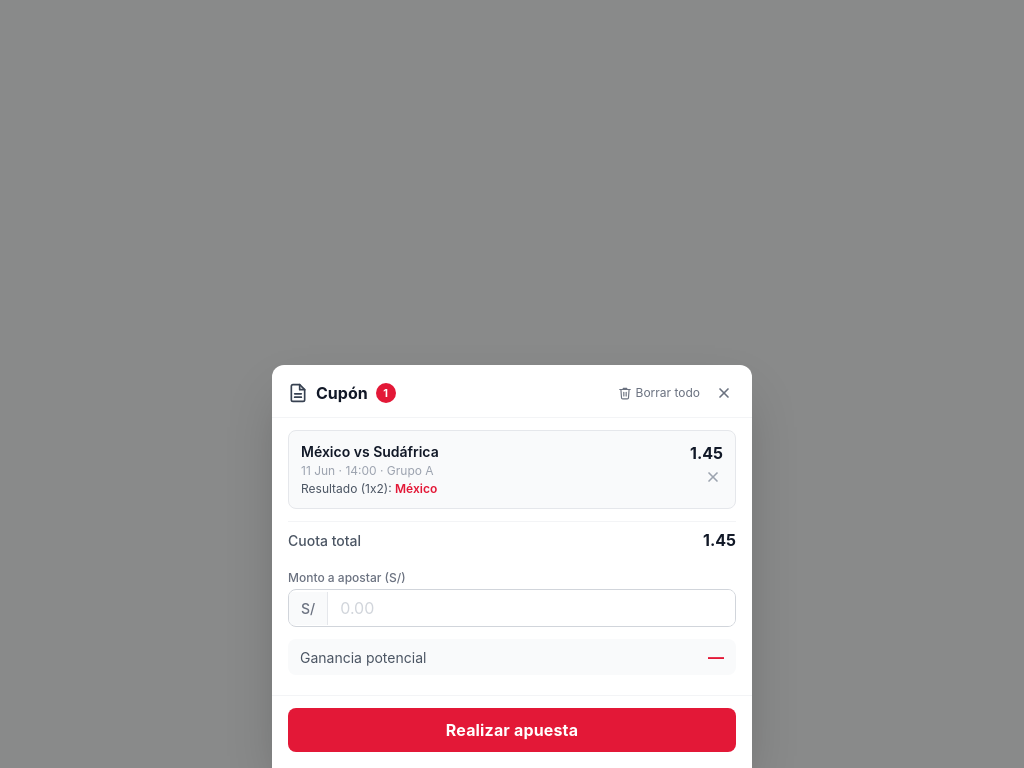
Test: BettingSlip — flujo de apuesta › muestra el mensaje de éxito al realizar la apuesta
Click the button "Realizar apuesta": (512, 730) [288,708,736,752]
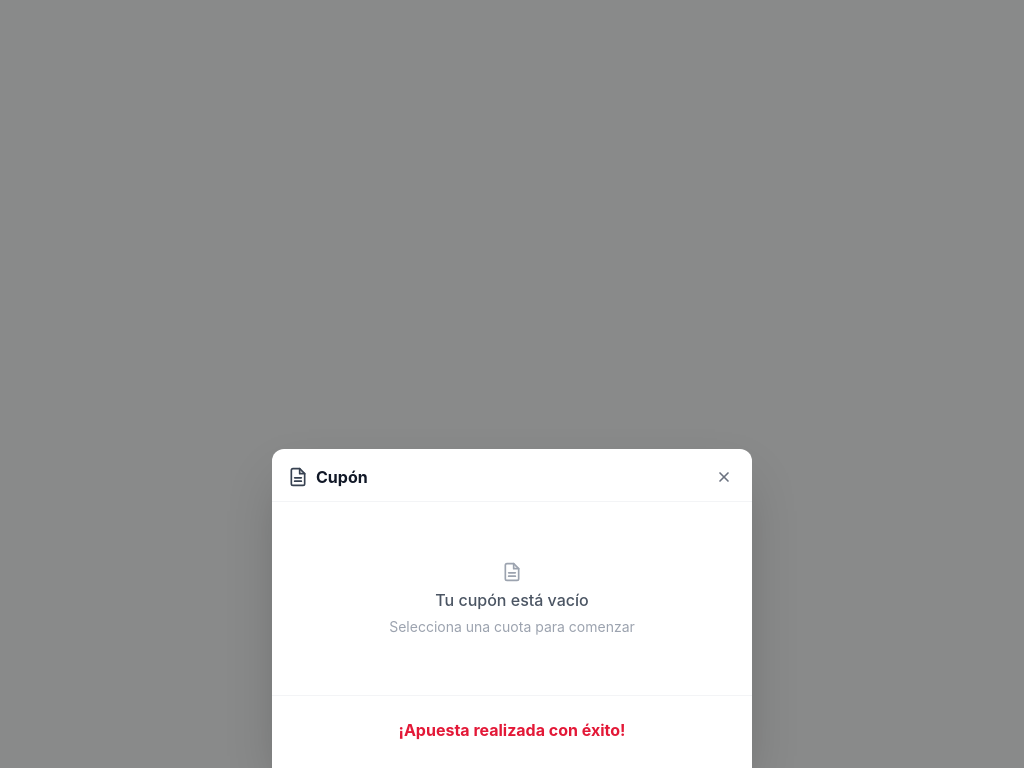
Expected: the text "¡Apuesta realizada con éxito!" is shown, [398,720,626,740]
